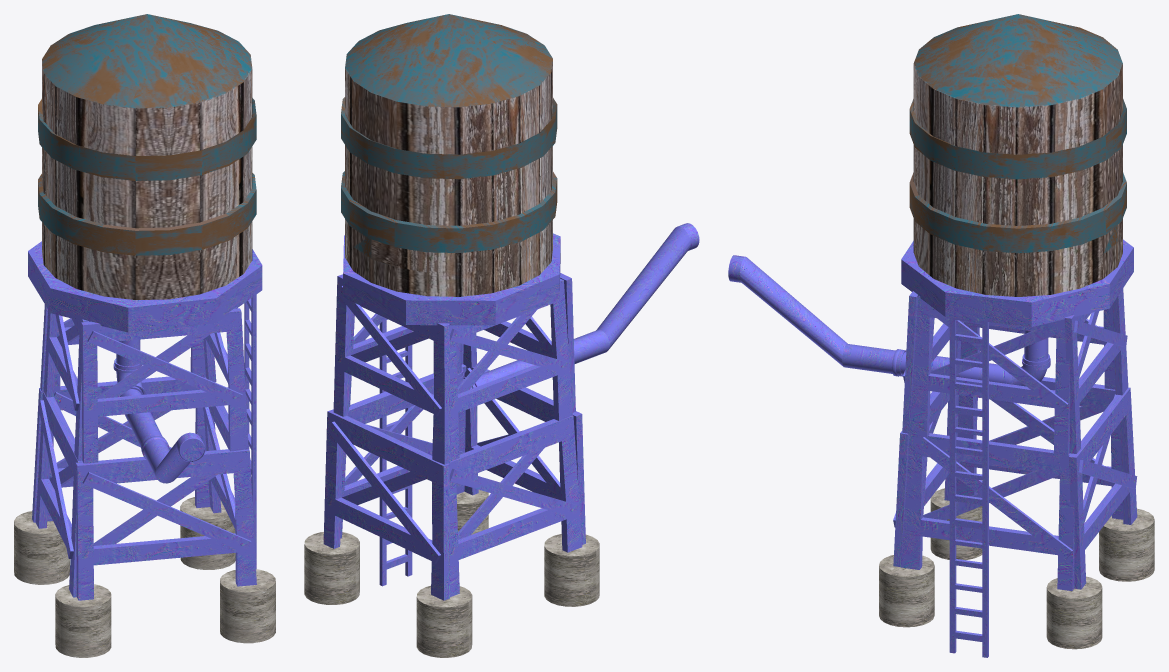
Rendered from WaterTower 1.fbx.
3 renders of one model, left to right at view 1: azimuth 30°, elevation 25°; view 2: azimuth 150°, elevation 25°; view 3: azimuth 270°, elevation 25°, orthographic.
Parts seen in each view (by area): view 1: TowerWell, TowerWall__1_, TowerWall__4_, TowerFlat, TowerBase__1_, TowerBase, TowerWall, TowerBase__2_, WoodDiagFront_1, TowerWall__3_, WoodDiagFront_4, TowerWall__5_ (+16 smaller); view 2: TowerWell, TowerWall__3_, TowerWall, TowerFlat, TowerWall__7_, TowerWall__5_, TowerStackPipe, TowerWall__1_, TowerBase__3_, TowerBase__2_, TowerBase__1_, TowerWall__2_ (+16 smaller); view 3: TowerWell, TowerWall__2_, TowerFlat, TowerWall__6_, TowerWall__3_, TowerStackPipe, TowerWall__7_, TowerBase__3_, TowerBase, TowerBase__2_, TowerWall, TowerLadder (+15 smaller).
Boxes of the visible parts, box(x1,y1,x2,y2) form: TowerWell: box(38, 14, 256, 299); TowerWall__1_: box(75, 449, 256, 600); TowerWall__4_: box(81, 308, 248, 463); TowerFlat: box(28, 241, 262, 332); TowerBase__1_: box(55, 584, 111, 657); TowerBase: box(220, 569, 275, 643); TowerWall: box(35, 391, 82, 597); TowerBase__2_: box(14, 511, 69, 584); WoodDiagFront_1: box(82, 471, 251, 552); TowerWall__3_: box(32, 376, 210, 522); WoodDiagFront_4: box(87, 330, 242, 405); TowerWall__5_: box(43, 310, 88, 460); TowerWell: box(341, 14, 557, 296); TowerWall__3_: box(323, 409, 449, 600); TowerWall: box(449, 415, 582, 597); TowerFlat: box(343, 233, 560, 325); TowerWall__7_: box(333, 274, 450, 464); TowerWall__5_: box(445, 278, 572, 461); TowerStackPipe: box(574, 223, 699, 363); TowerWall__1_: box(463, 364, 585, 544); TowerBase__3_: box(304, 532, 359, 604); TowerBase__2_: box(416, 585, 472, 657); TowerBase__1_: box(544, 534, 599, 606); TowerWall__2_: box(340, 364, 466, 538); TowerWell: box(909, 14, 1126, 296); TowerWall__2_: box(901, 433, 1074, 590); TowerFlat: box(901, 239, 1133, 326); TowerWall__6_: box(909, 296, 1069, 455); TowerWall__3_: box(1068, 387, 1137, 589); TowerStackPipe: box(728, 255, 900, 376); TowerWall__7_: box(1064, 288, 1128, 453); TowerBase__3_: box(1046, 576, 1102, 649); TowerBase: box(879, 555, 934, 627); TowerBase__2_: box(1099, 508, 1154, 581); TowerWall: box(956, 377, 1123, 519); TowerLadder: box(949, 539, 988, 657).
Bounding box in the file's own units: 663 × 1661 × 1065.
